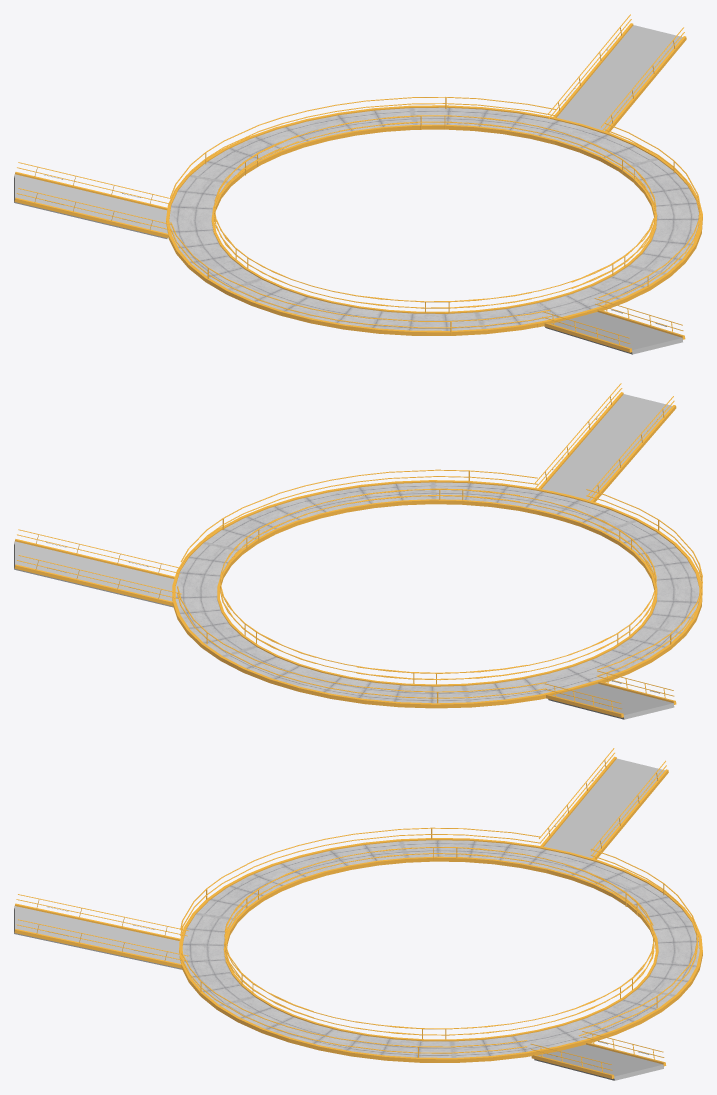
Rendered from scaled_Catwalk.fbx.
3 views of the same model, one above another, from view 1: azimuth 30°, elevation 25°; view 2: azimuth 150°, elevation 25°; view 3: azimuth 270°, elevation 25° (orthographic). The views are drawn at different scales.
Parts seen in each view (by area): view 1: Cat10, Catwalk__7_, pCube7, pCube8, Catwalk__7__2, RailingOpen7, RailingOpen8, Catwalk__7__1, RailingOpen8__1_, Catwalk__8__2, Catwalk__9_; view 2: Cat10, Catwalk__7__1, pCube7, pCube8, Catwalk__7_, RailingOpen7, RailingOpen8__1_, Catwalk__7__2, RailingOpen8, Catwalk__8_, Catwalk__9__1, Catwalk__9_; view 3: Cat10, pCube7, Catwalk__7__2, Catwalk__7__1, pCube8, RailingOpen7, RailingOpen8, Catwalk__7_, RailingOpen8__1_, Catwalk__8__1, Catwalk__9__1, Catwalk__9__2.
Part boxes in pixels (left/top/right/bottom): Cat10: left=169, top=107, right=698, bottom=330; Catwalk__7_: left=557, top=25, right=682, bottom=131; pCube7: left=166, top=105, right=702, bottom=335; pCube8: left=211, top=124, right=657, bottom=313; Catwalk__7__2: left=14, top=174, right=167, bottom=238; RailingOpen7: left=170, top=97, right=700, bottom=334; RailingOpen8: left=216, top=115, right=656, bottom=312; Catwalk__7__1: left=545, top=312, right=682, bottom=354; RailingOpen8__1_: left=214, top=115, right=654, bottom=312; Catwalk__8__2: left=14, top=197, right=168, bottom=238; Catwalk__9_: left=605, top=36, right=686, bottom=132; Cat10: left=175, top=482, right=699, bottom=703; Catwalk__7__1: left=542, top=394, right=672, bottom=500; pCube7: left=172, top=480, right=702, bottom=708; pCube8: left=217, top=499, right=657, bottom=686; Catwalk__7_: left=14, top=541, right=174, bottom=607; RailingOpen7: left=177, top=469, right=702, bottom=703; RailingOpen8__1_: left=220, top=489, right=655, bottom=683; Catwalk__7__2: left=548, top=683, right=674, bottom=719; RailingOpen8: left=220, top=488, right=656, bottom=684; Catwalk__8_: left=14, top=564, right=172, bottom=606; Catwalk__9__1: left=591, top=405, right=676, bottom=501; Catwalk__9_: left=14, top=539, right=174, bottom=578; Cat10: left=182, top=840, right=699, bottom=1057; pCube7: left=179, top=838, right=702, bottom=1062; Catwalk__7__2: left=544, top=758, right=664, bottom=857; Catwalk__7__1: left=14, top=906, right=182, bottom=969; pCube8: left=223, top=856, right=658, bottom=1041; RailingOpen7: left=180, top=827, right=698, bottom=1057; RailingOpen8: left=224, top=847, right=654, bottom=1039; Catwalk__7_: left=534, top=1044, right=663, bottom=1080; RailingOpen8__1_: left=224, top=847, right=654, bottom=1039; Catwalk__8__1: left=14, top=928, right=181, bottom=968; Catwalk__9__1: left=14, top=903, right=180, bottom=940; Catwalk__9__2: left=592, top=769, right=668, bottom=859.
Bounding box in the file's own units: 6258 × 489 × 5706.
